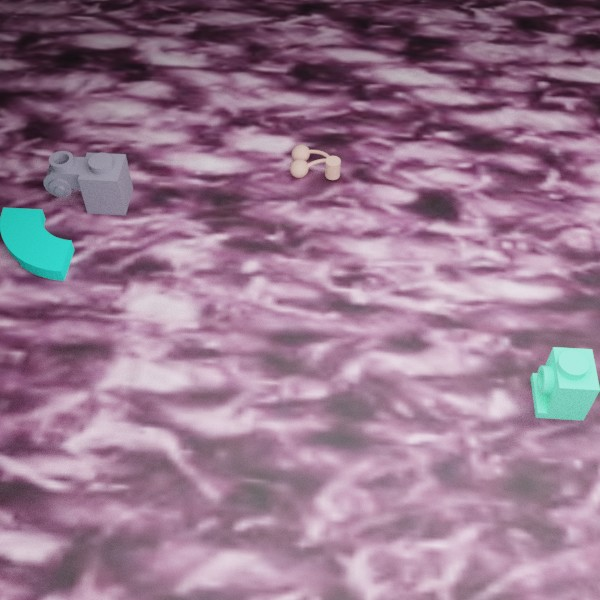lego: (43, 150, 133, 215), (0, 207, 74, 280), (530, 347, 600, 420), (290, 144, 340, 180)
